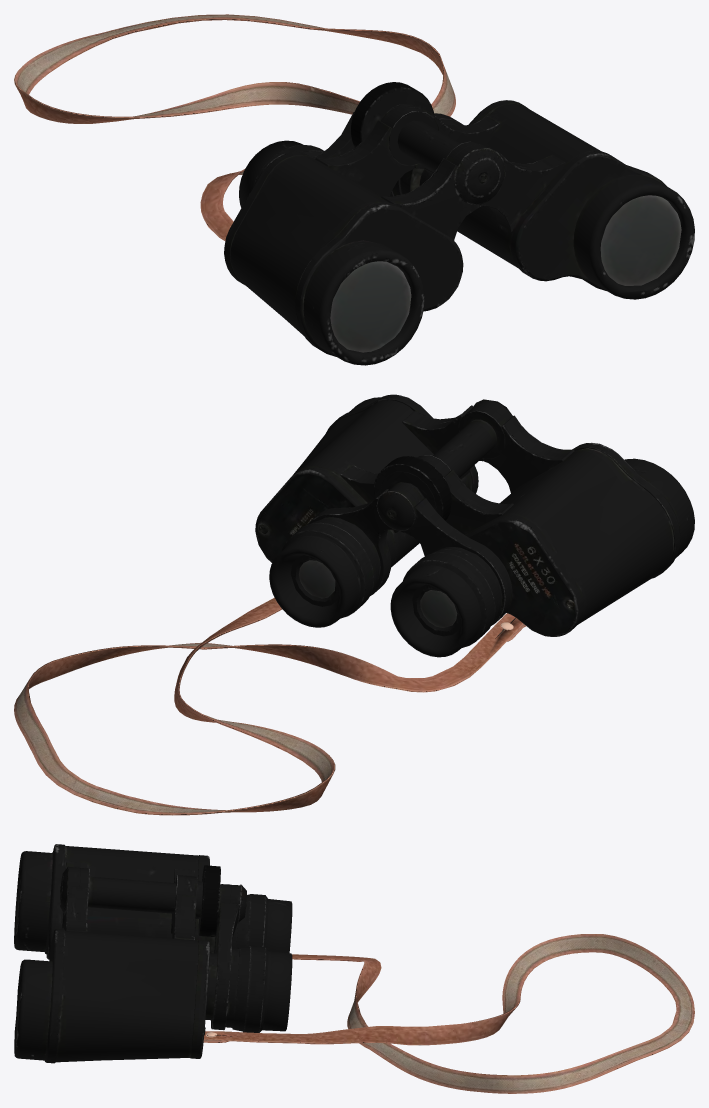
The model's file is binoculars.glb.
The picture shows the model from 3 angles, top to bottom: view 1: azimuth 30°, elevation 25°; view 2: azimuth 150°, elevation 25°; view 3: azimuth 270°, elevation 25°; orthographic projection. The views are drawn at different scales.
Parts seen in each view (by area): view 1: binoculars_left, binoculars_strap; view 2: binoculars_left, binoculars_strap; view 3: binoculars_left, binoculars_strap.
Part boxes in pixels (<box>): binoculars_left: <box>224,82,694,365</box>; binoculars_strap: <box>14,14,455,240</box>; binoculars_left: <box>255,394,694,657</box>; binoculars_strap: <box>14,597,526,815</box>; binoculars_left: <box>14,844,292,1063</box>; binoculars_strap: <box>203,934,694,1093</box>.
Size of the model in its own units: 0.1669 by 0.066 by 0.2879.
Materials: 2 (2 with a texture image).
